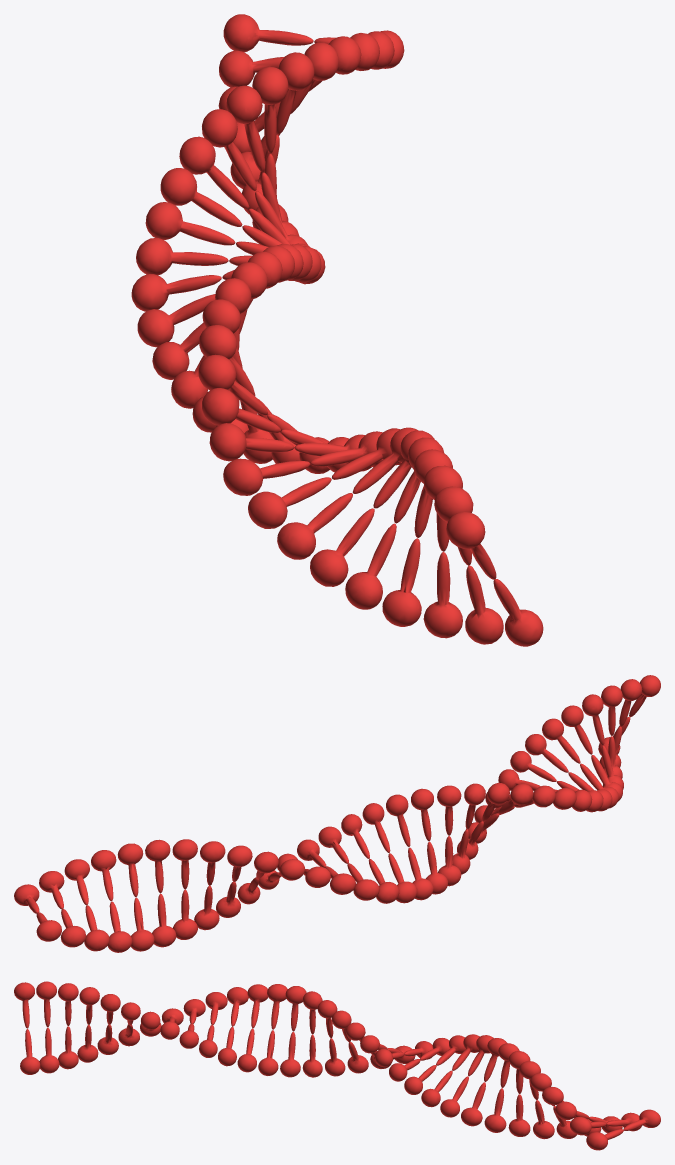
File: dnared.glb
The picture shows the model from 3 angles, top to bottom: view 1: azimuth 30°, elevation 25°; view 2: azimuth 150°, elevation 25°; view 3: azimuth 270°, elevation 25°; orthographic projection. The views are drawn at different scales.
Visible parts, largest first — view 1: DNA; view 2: DNA; view 3: DNA.
Part boxes in pixels (x1,y1,x2,y2): DNA: (131, 14, 543, 646); DNA: (14, 675, 660, 952); DNA: (14, 981, 660, 1150).
Bounding box in the file's own units: 1925 × 537 × 3732.
